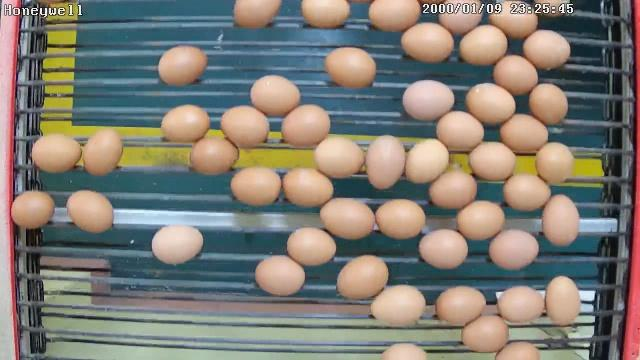egg: (336, 252, 390, 302), (318, 195, 376, 241), (369, 283, 426, 328), (464, 80, 518, 126), (364, 132, 406, 191), (400, 20, 456, 64), (324, 45, 378, 90), (250, 72, 302, 118), (280, 102, 332, 148), (150, 222, 204, 266), (402, 78, 456, 122), (282, 166, 336, 210), (374, 196, 428, 240), (220, 104, 272, 149), (314, 134, 366, 179), (254, 253, 306, 298), (66, 188, 116, 234), (488, 227, 540, 271), (434, 284, 486, 328), (229, 165, 282, 208), (404, 137, 450, 186), (456, 198, 506, 243), (458, 23, 509, 67), (542, 192, 582, 248), (426, 168, 478, 211), (156, 44, 207, 87), (82, 126, 125, 177), (286, 225, 338, 267), (498, 112, 550, 154), (522, 28, 572, 71), (189, 135, 240, 177), (418, 228, 469, 270), (31, 133, 83, 174), (434, 109, 486, 150), (492, 53, 540, 97), (160, 103, 210, 145), (468, 140, 518, 182), (496, 283, 546, 325), (544, 273, 582, 328), (459, 314, 510, 354), (502, 172, 552, 212), (10, 188, 56, 230), (534, 140, 576, 186), (528, 81, 569, 126), (368, 1, 422, 34)
